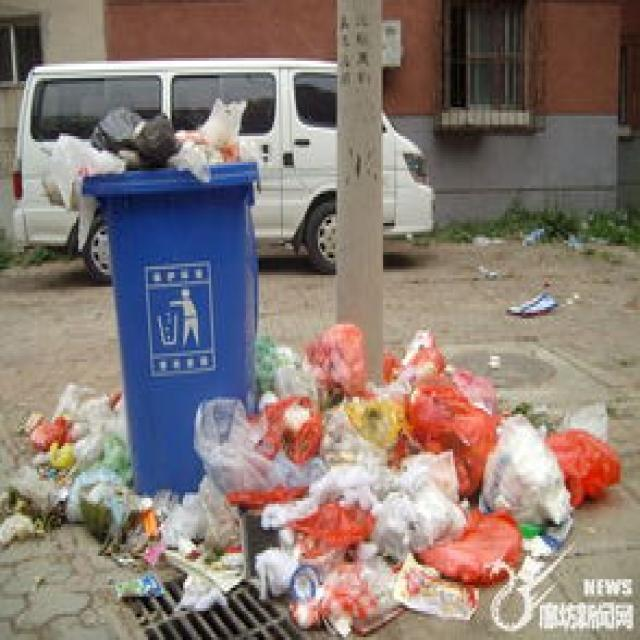garbage: (0, 321, 620, 637)
overflow: (78, 96, 259, 490)
